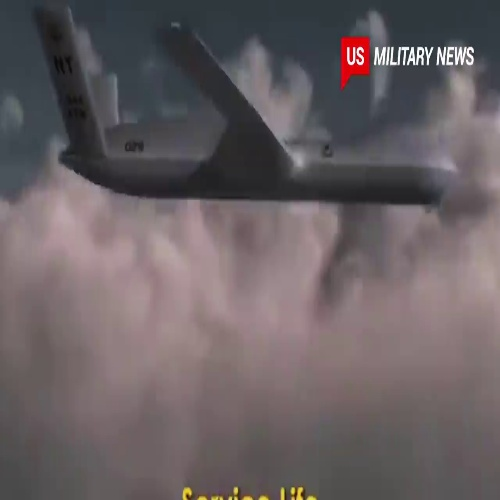uav718: (28, 6, 463, 209)
